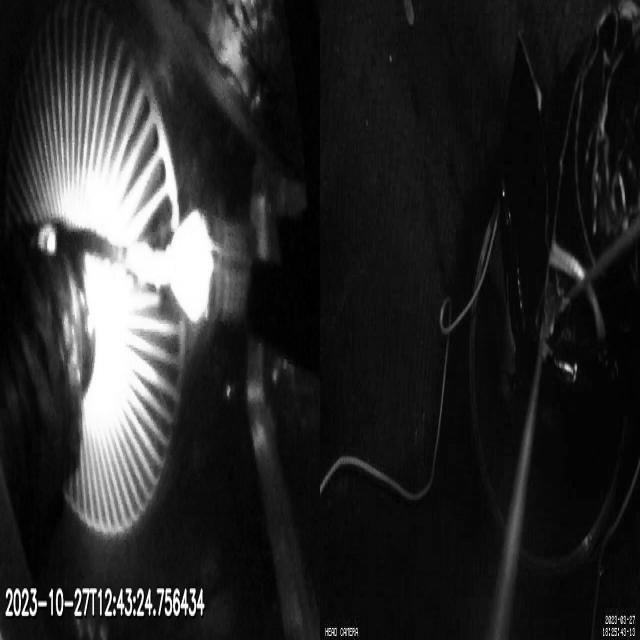head: (175, 210, 252, 326)
